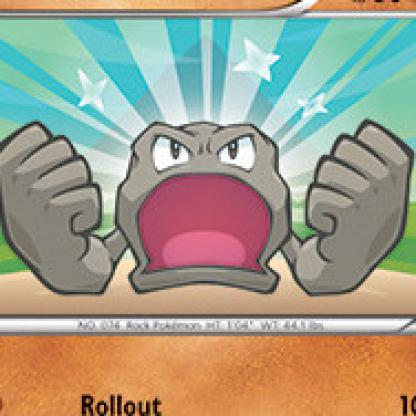Geodude: (1, 7, 416, 416)
